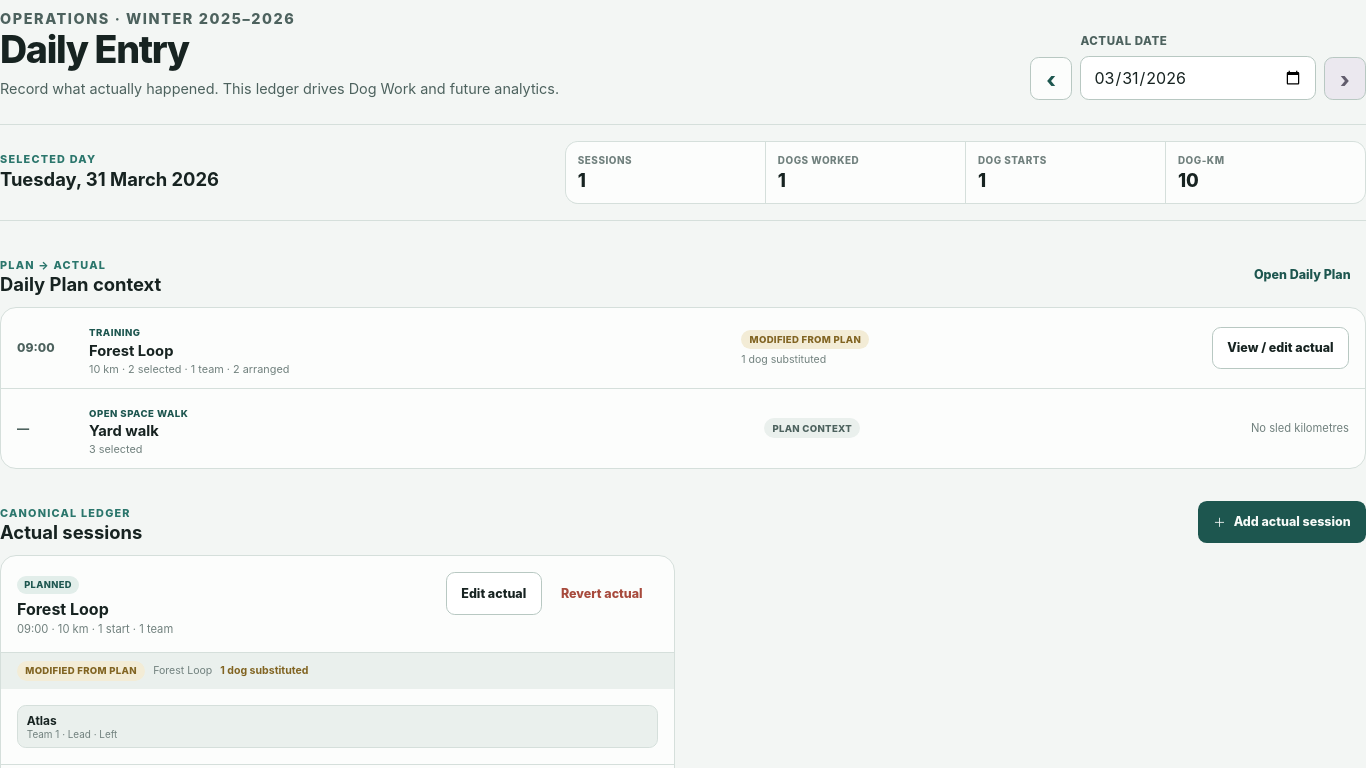
Scenario: DailyEntryPageComponent › reopens positioned actual for replacement and exposes server validation
Click the button with class "secondary" showing "Edit actual".
click(494, 593)  # box [446,572,542,615]
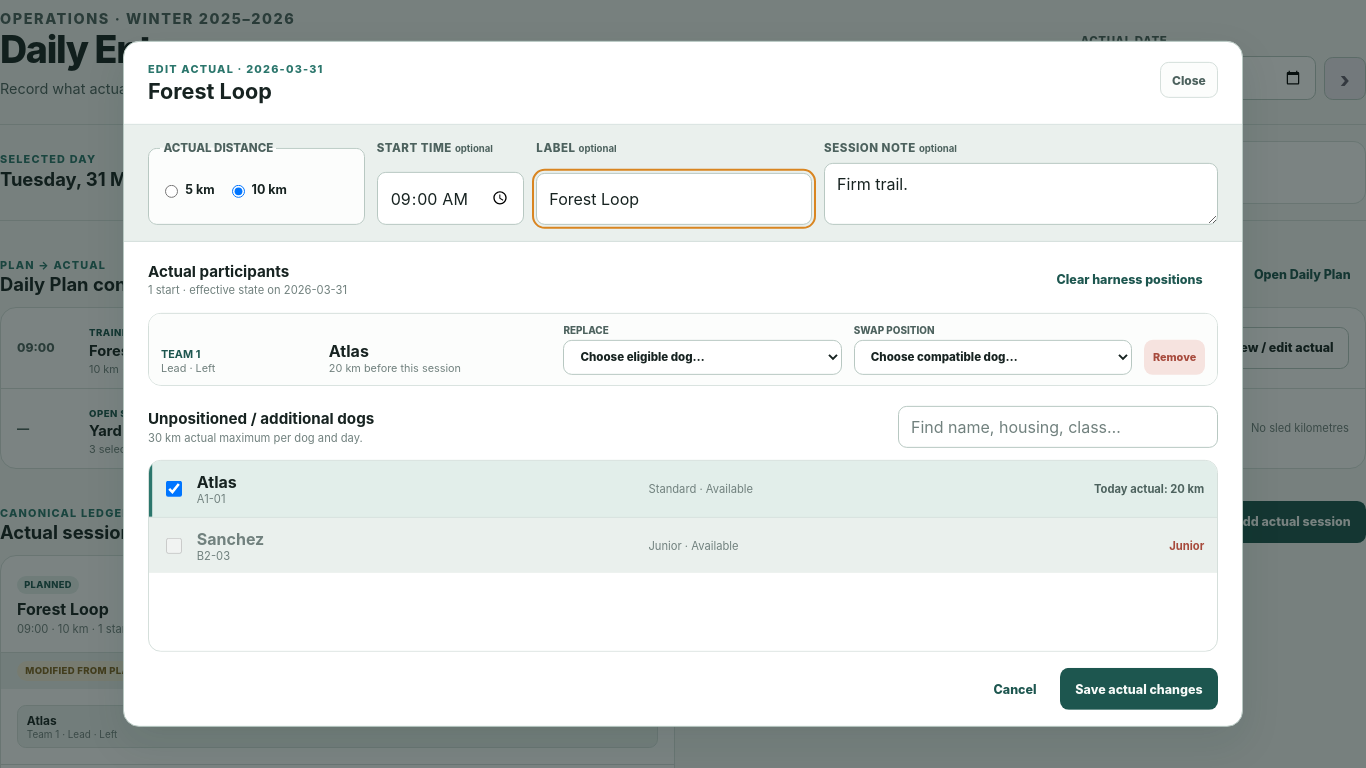
Expected: the text "Lead · Left" is shown, [27,728,117,740]
Submit the form
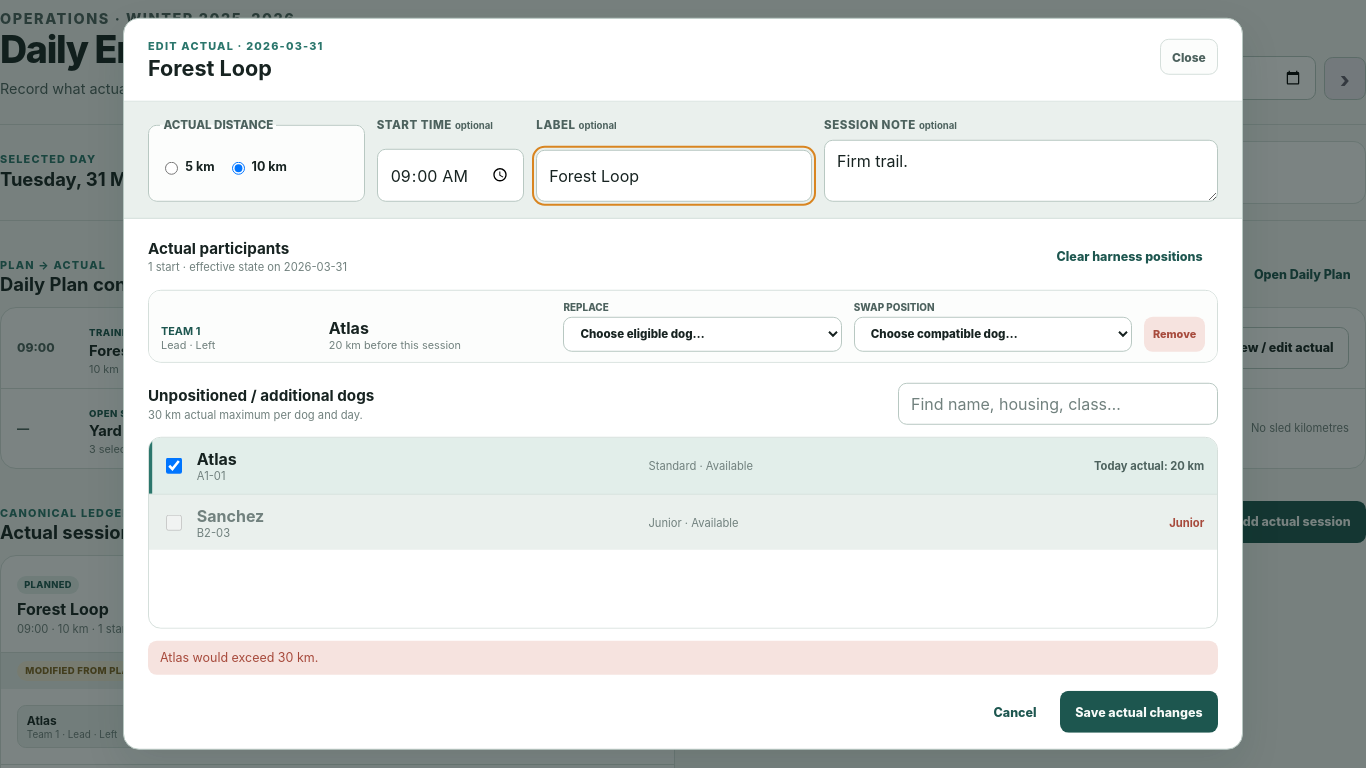
Expected: the dialog is shown
Expected: the message with class "form-error" shows "30 km", [160,650,318,665]
